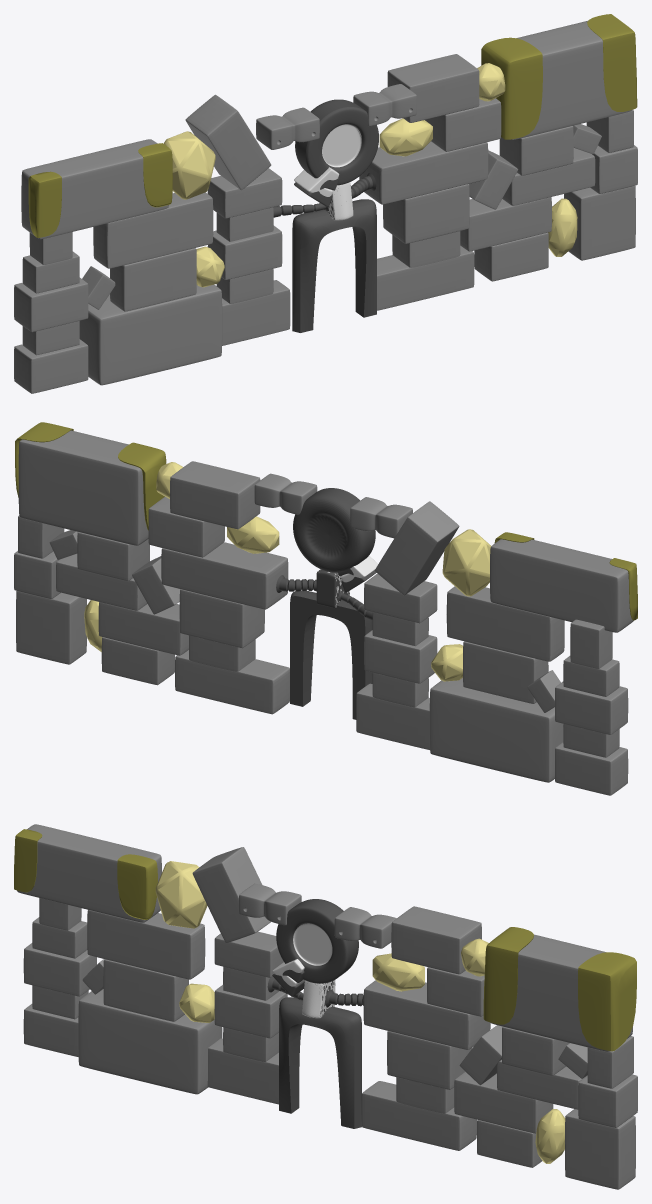
The model's file is thewall.2024.08.02.fbx.
3 renders of one model, top to bottom at view 1: azimuth 30°, elevation 25°; view 2: azimuth 150°, elevation 25°; view 3: azimuth 330°, elevation 25°, orthographic.
Parts seen in each view (by area): view 1: Cube.016, Cube.025, Cube.022, Cube, Cube.024, Cube.008, Cylinder.001, Cube.036, Cube.010, Cube.019, Cube.023, Cube.005 (+31 smaller); view 2: Cube.016, Cube.025, Cube.022, Cube, Cube.008, Cube.024, Cylinder.001, Cube.010, Cube.005, Cube.019, Cube.036, Cube.007 (+29 smaller); view 3: Cube.016, Cube.025, Cube.022, Cube, Cube.024, Cylinder.001, Cube.008, Cube.019, Cube.005, Cube.010, Cube.036, Cube.023 (+29 smaller).
Part boxes in pixels (x1,y1,x2,y2): Cube.016: [481, 14, 637, 139]; Cube.025: [21, 139, 172, 239]; Cube.022: [79, 284, 222, 385]; Cube: [273, 173, 376, 332]; Cube.024: [93, 192, 213, 268]; Cube.008: [359, 141, 488, 204]; Cylinder.001: [294, 99, 378, 207]; Cube.036: [185, 94, 271, 190]; Cube.010: [387, 54, 479, 122]; Cube.019: [564, 185, 635, 260]; Cube.023: [110, 248, 196, 311]; Cube.005: [377, 246, 474, 310]; Cube.016: [15, 422, 166, 545]; Cube.025: [490, 532, 637, 632]; Cube.022: [429, 678, 563, 782]; Cube: [276, 569, 372, 719]; Cube.008: [161, 542, 288, 609]; Cube.024: [446, 586, 564, 661]; Cylinder.001: [293, 488, 376, 592]; Cube.010: [170, 461, 260, 529]; Cube.005: [175, 650, 289, 714]; Cube.019: [16, 591, 86, 664]; Cube.036: [375, 501, 459, 595]; Cube.007: [179, 589, 264, 648]; Cube.016: [483, 927, 636, 1051]; Cube.025: [14, 824, 161, 922]; Cube.022: [78, 989, 222, 1094]; Cube: [267, 976, 363, 1128]; Cube.024: [87, 910, 205, 979]; Cylinder.001: [272, 899, 358, 996]; Cube.008: [363, 980, 490, 1049]; Cube.019: [565, 1109, 635, 1189]; Cube.005: [361, 1081, 476, 1150]; Cube.010: [391, 906, 481, 974]; Cube.036: [192, 847, 270, 942]; Cube.023: [103, 959, 188, 1021].
Size of the model in its own units: 2433 by 915 by 237.
